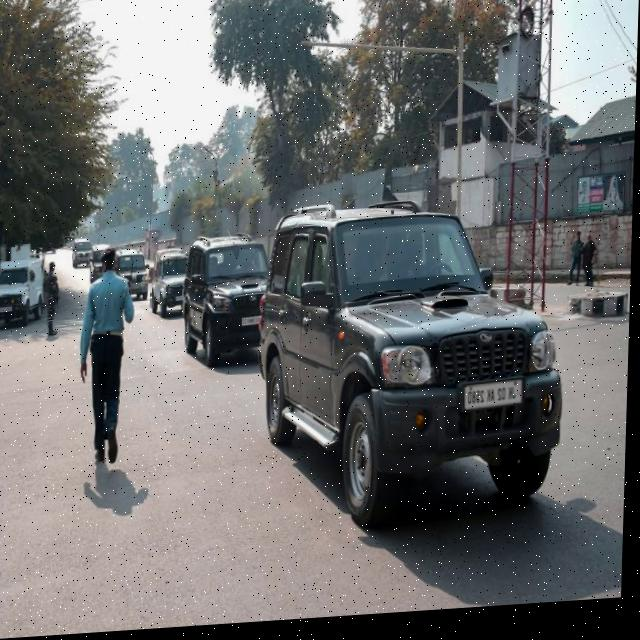plate: (465, 385, 527, 417), (243, 320, 263, 329), (0, 306, 16, 312)
